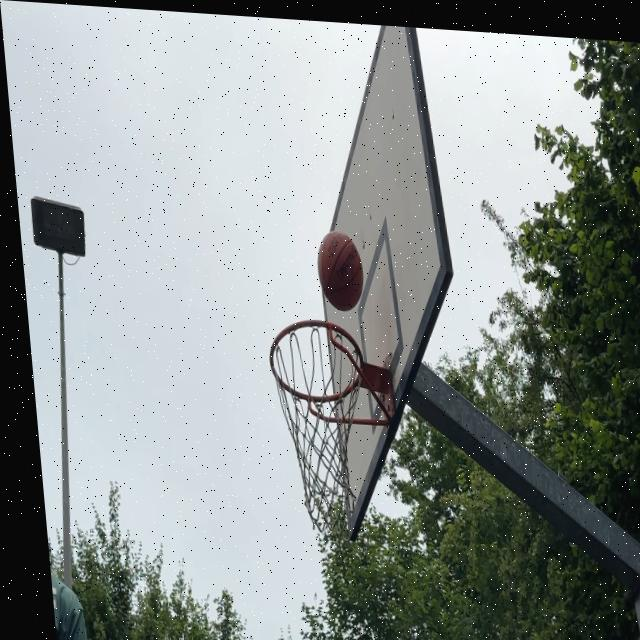Basketball: (315, 233, 366, 315)
